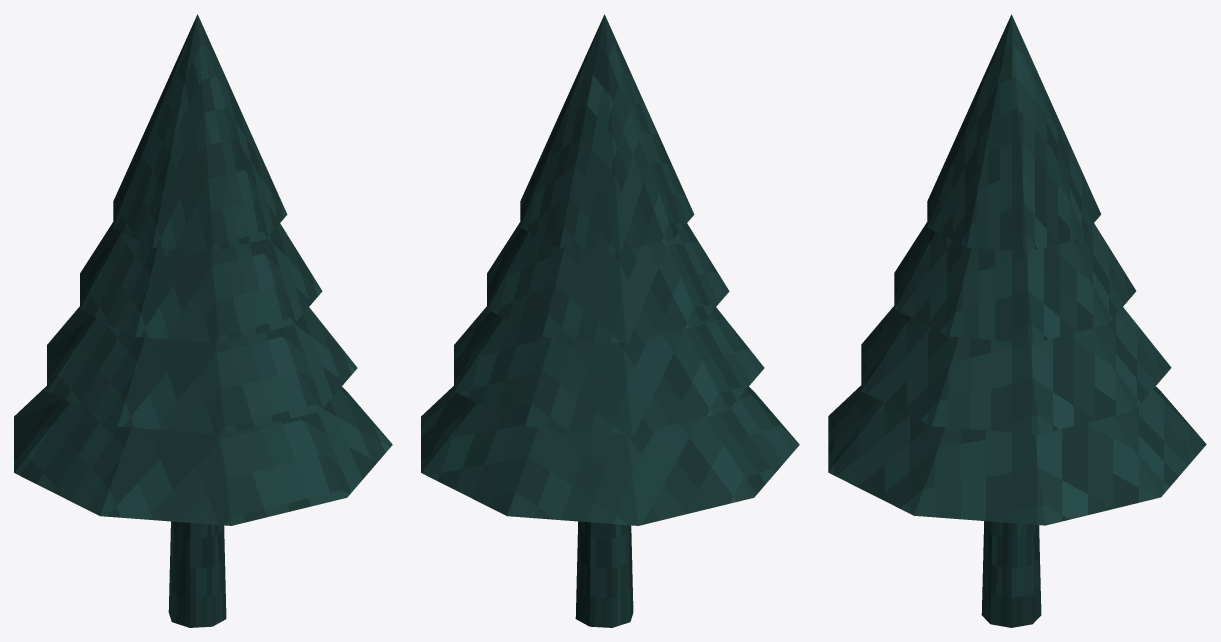
The model's file is pine_04.glb.
The picture shows the model from 3 angles, left to right: view 1: azimuth 30°, elevation 25°; view 2: azimuth 150°, elevation 25°; view 3: azimuth 270°, elevation 25°; orthographic projection.
Parts seen in each view (by area): view 1: Needles, Needles.001, Needles.003, Needles.002, Trunk; view 2: Needles, Needles.001, Needles.003, Needles.002, Trunk; view 3: Needles, Needles.001, Needles.003, Needles.002, Trunk.
Boxes of the visible parts, x1,y1,x2,y2 form: Needles: [14, 386, 392, 525]; Needles.001: [47, 306, 357, 434]; Needles.003: [113, 14, 287, 251]; Needles.002: [80, 222, 322, 343]; Trunk: [168, 521, 226, 627]; Needles: [421, 386, 799, 525]; Needles.001: [454, 306, 764, 434]; Needles.003: [520, 14, 694, 251]; Needles.002: [487, 222, 729, 343]; Trunk: [575, 521, 633, 627]; Needles: [828, 385, 1206, 525]; Needles.001: [861, 306, 1171, 434]; Needles.003: [927, 14, 1101, 251]; Needles.002: [894, 222, 1136, 342]; Trunk: [981, 521, 1041, 627].
Bounding box in the file's own units: 2.58 × 4.45 × 2.54.
1 material, 1 textured.
